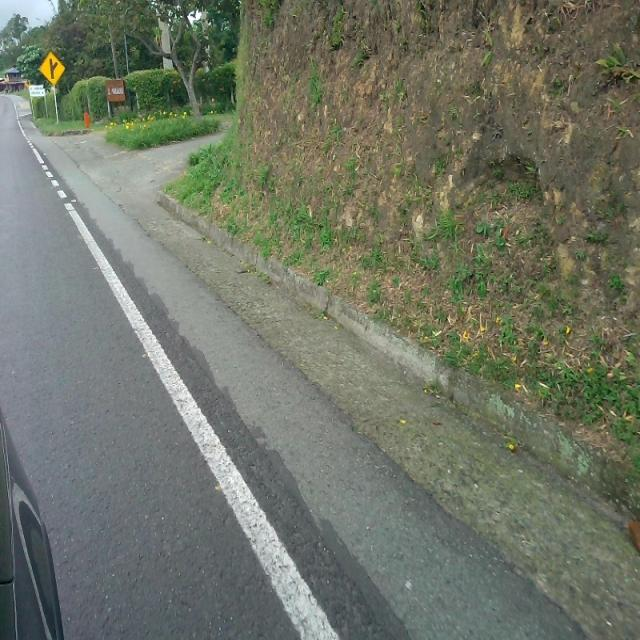DITCH: (4, 0, 638, 638), (7, 95, 636, 638)
